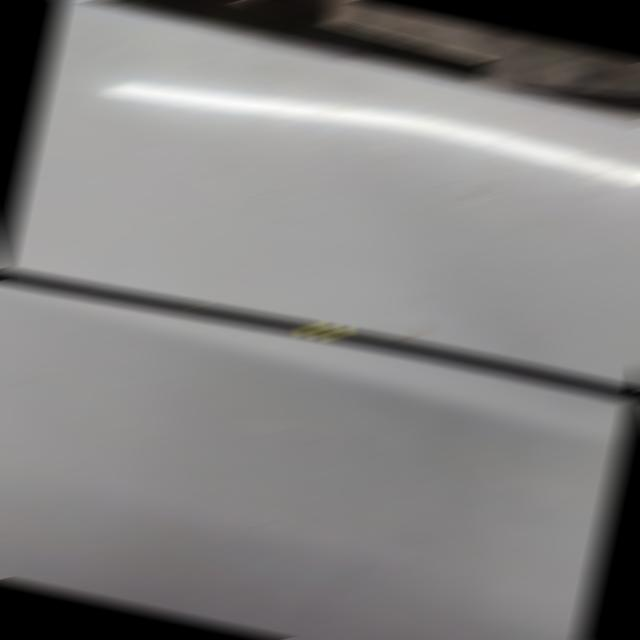yellow: (300, 324, 346, 340)
